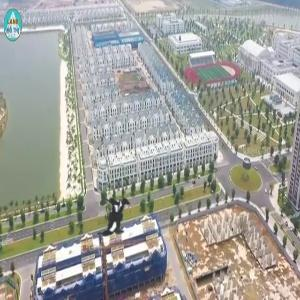drone: (53, 153, 180, 280)
